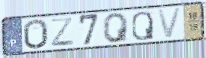7: (78, 13, 101, 48)
O: (22, 18, 50, 51)
Q: (102, 12, 131, 44), (131, 10, 156, 42)
V: (156, 6, 184, 40)
Z: (49, 16, 76, 48)
